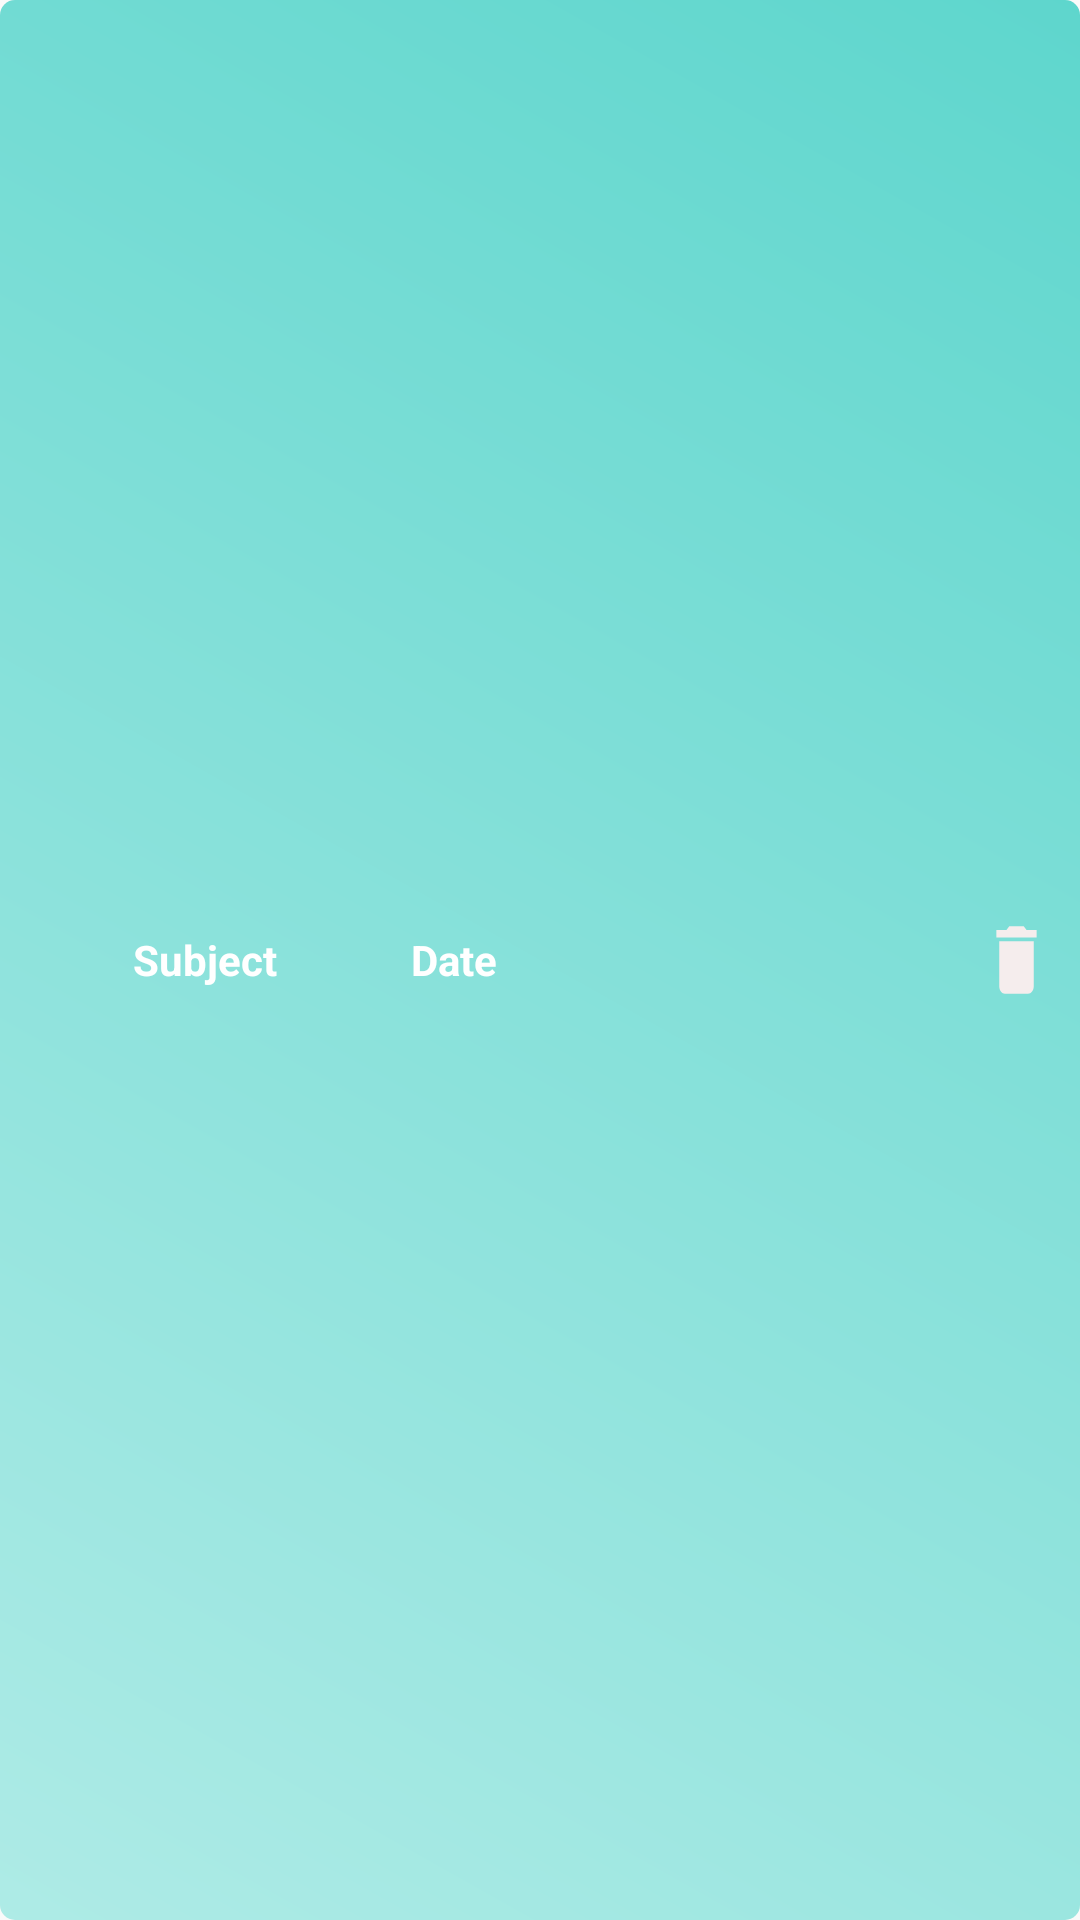

Screen size 1080x1920. Icon name, then its center in pixels as point (x, y):
delete: point (1016, 960)
